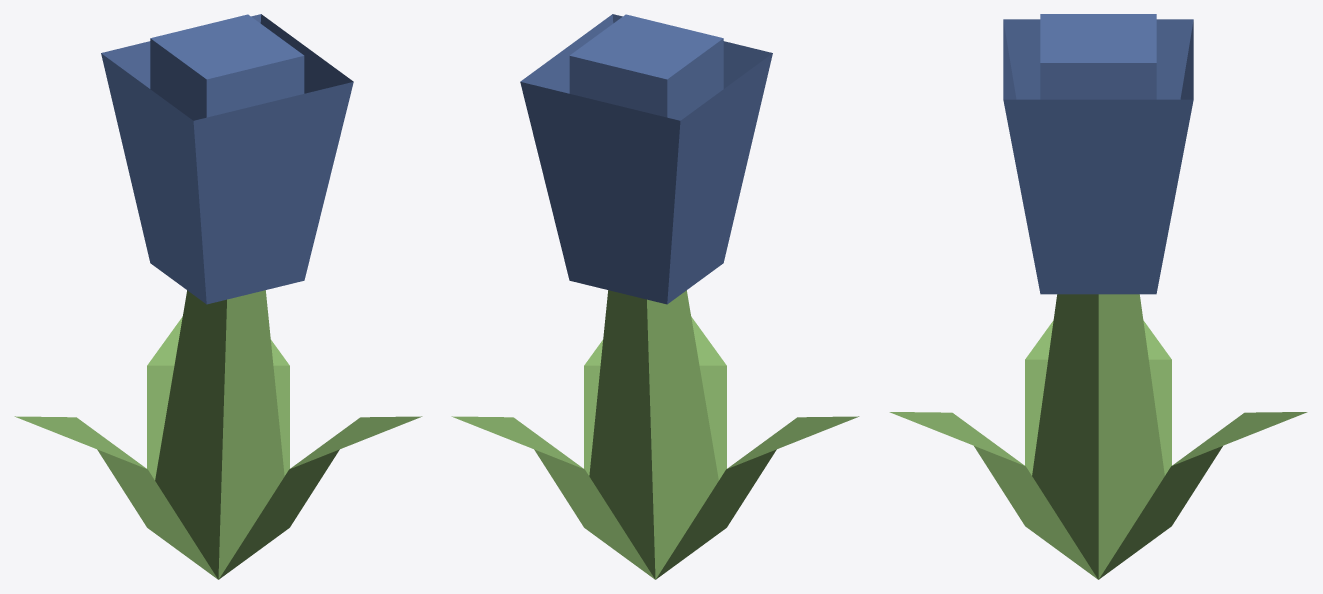
File: flower-purple.glb
3 renders of one model, left to right at view 1: azimuth 30°, elevation 25°; view 2: azimuth 150°, elevation 25°; view 3: azimuth 270°, elevation 25°, orthographic. The views are drawn at different scales.
Parts seen in each view (by area): view 1: flower_purpleA; view 2: flower_purpleA; view 3: flower_purpleA.
Boxes of the visible parts, x1,y1,x2,y2 form: flower_purpleA: (14, 14, 422, 579); flower_purpleA: (451, 14, 859, 579); flower_purpleA: (889, 14, 1307, 579).
Size of the model in its own units: 0.1968 by 0.3 by 0.224.
